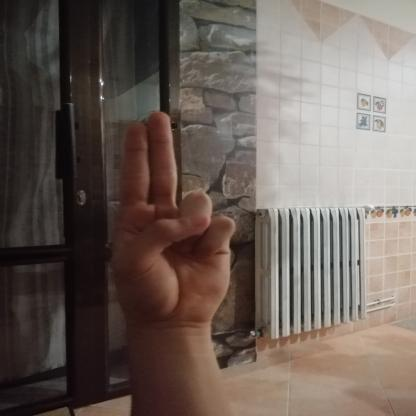TA: (91, 100, 252, 336)
